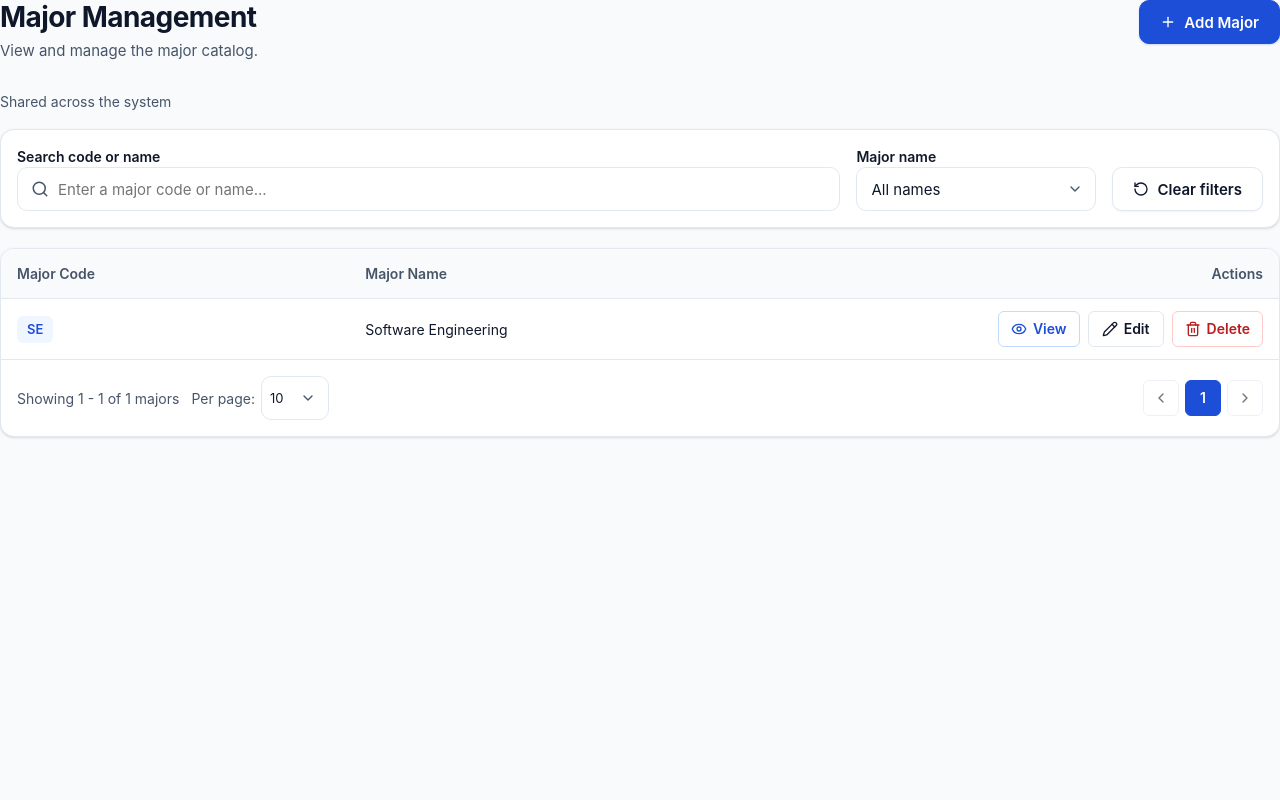
Major management › requires confirmation and shows a localized delete restriction without removing the row
Step 1. Click the button with aria-label "Delete major SE" → (1217, 329), box x1=1172 y1=311 x2=1263 y2=347
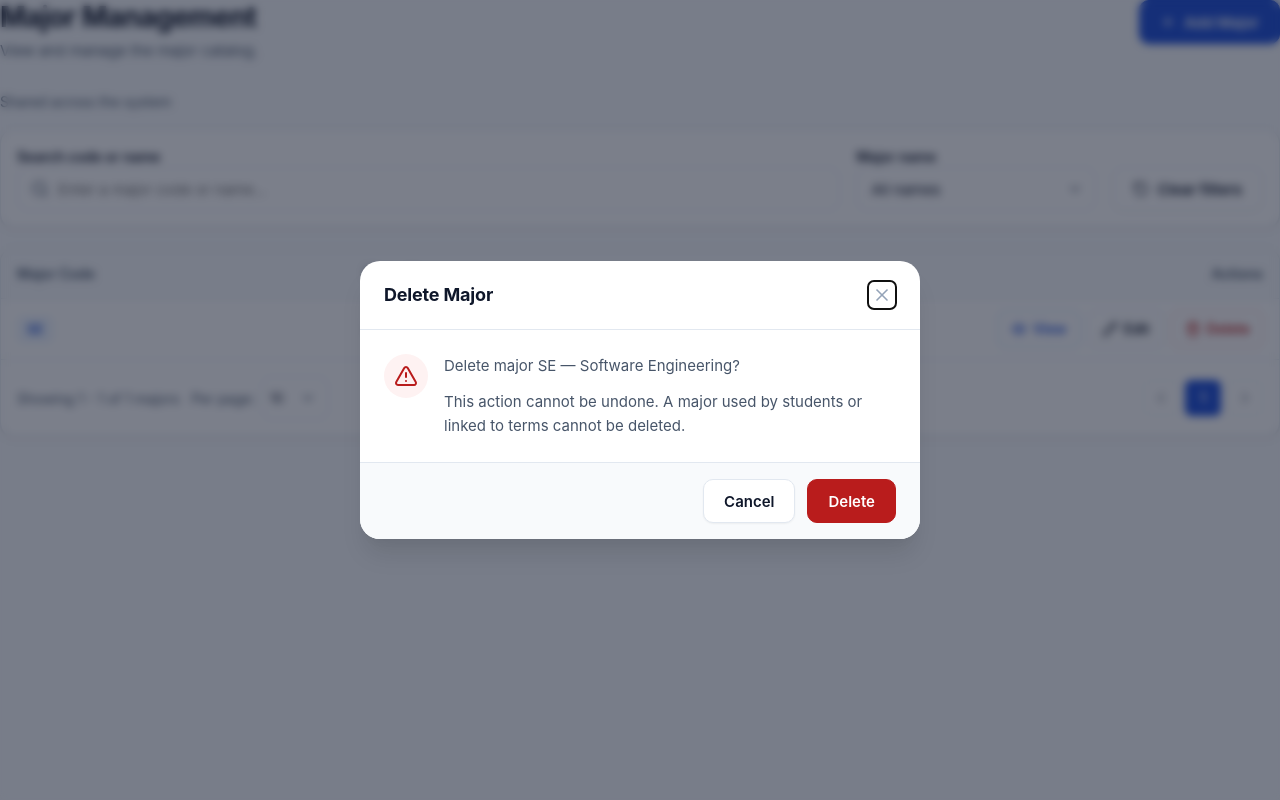
Step 2. Click the button "Delete" → (852, 501), box x1=808 y1=479 x2=896 y2=523
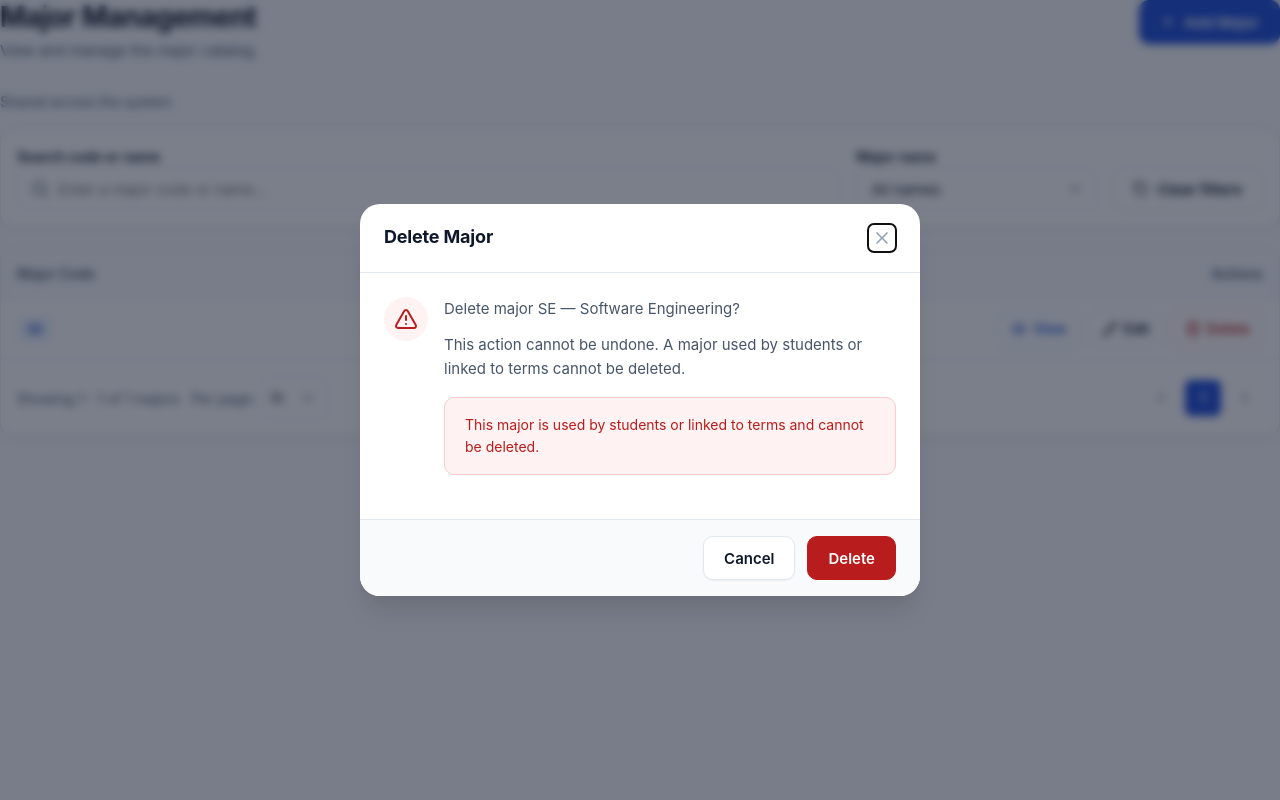
Expected: the table shows "SE", x1=27 y1=321 x2=43 y2=337
Expected: the dialog is shown
Expected: the text "This major is used by students or linked to terms and cannot be deleted." is shown, x1=444 y1=397 x2=896 y2=475
